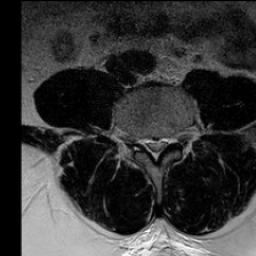CCS_normal: (152, 127, 160, 169)
LFS_normal: (169, 123, 178, 152)
LLS_normal: (160, 124, 169, 158)
RFS_stenosis: (132, 124, 142, 153)
RLS_normal: (142, 128, 152, 160)
